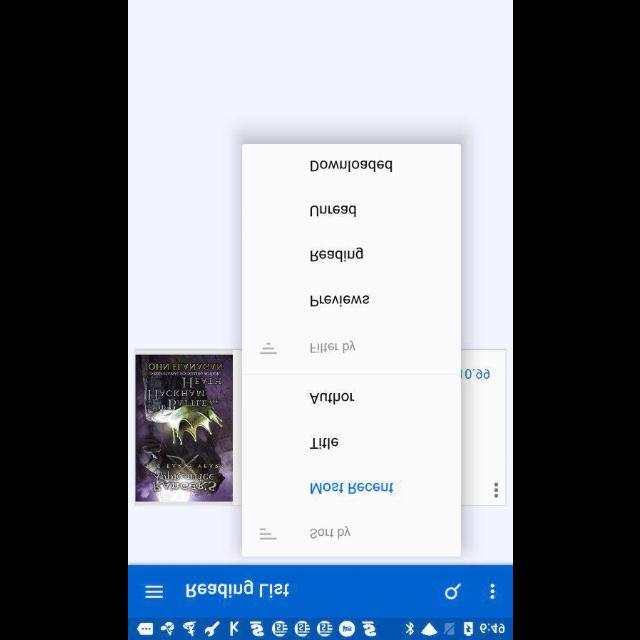icon: (144, 584, 164, 598), (258, 526, 278, 540), (444, 582, 461, 598), (258, 342, 278, 354), (494, 480, 498, 498), (490, 582, 494, 598)
image: (136, 354, 232, 500)
panel: (242, 144, 460, 556)
text: (185, 578, 288, 598), (310, 160, 392, 173), (310, 482, 394, 494), (309, 294, 369, 308), (310, 246, 362, 262), (308, 339, 356, 353), (309, 205, 356, 218), (309, 525, 351, 539), (308, 392, 354, 404), (309, 436, 339, 449)
uppertaskbar: (128, 617, 512, 639)
